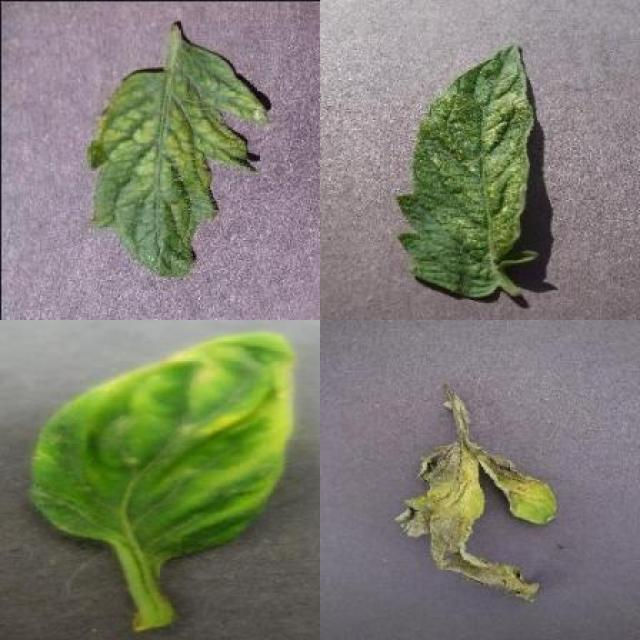Late Blight: (400, 438, 557, 602)
Mosaic Virus: (83, 43, 268, 280)
Spider Mites: (396, 44, 536, 296)
Yellow Leaf Curl Virus: (35, 331, 295, 566)
